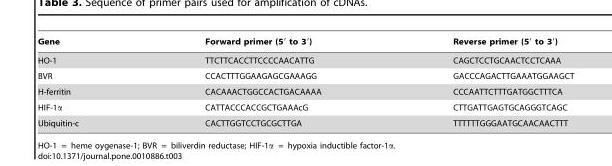table: (37, 36, 573, 127)
table column: (141, 36, 386, 127), (386, 36, 573, 127), (37, 36, 141, 127)
table column header: (37, 36, 573, 50)
table row: (37, 50, 573, 67), (37, 67, 573, 83), (37, 83, 573, 99), (37, 99, 573, 115), (37, 36, 573, 50), (37, 115, 573, 127)
